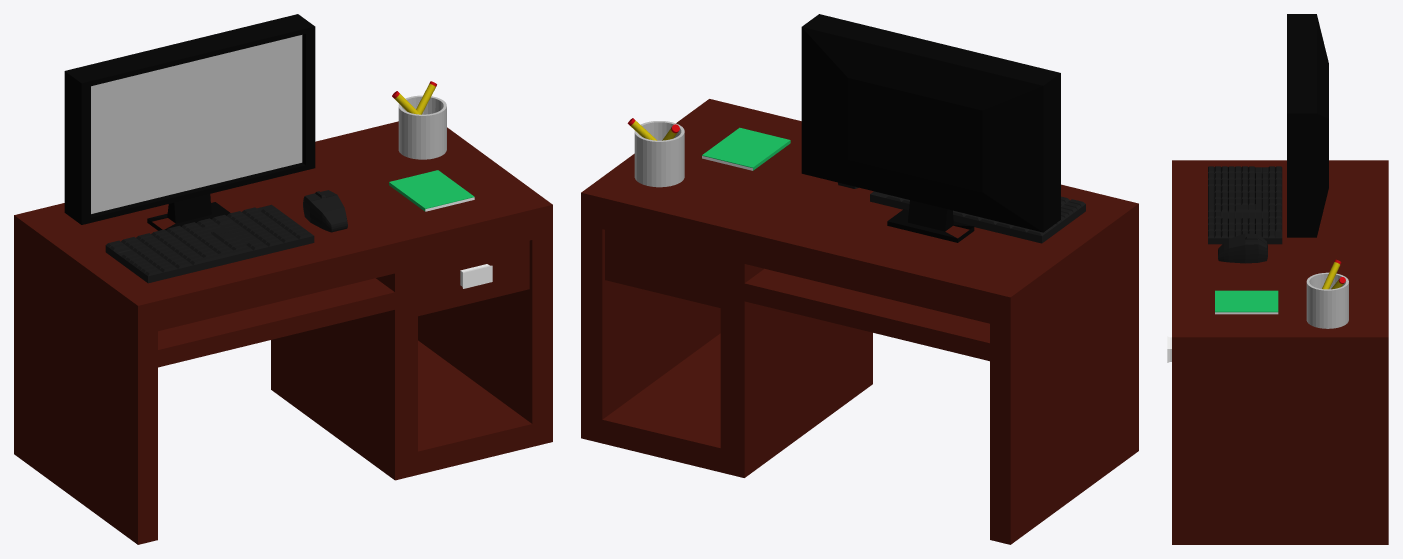
Rendered from computer_desk.obj.
3 renders of one model, left to right at view 1: azimuth 30°, elevation 25°; view 2: azimuth 150°, elevation 25°; view 3: azimuth 270°, elevation 25°, orthographic. The views are drawn at different scales.
Parts seen in each view (by area): view 1: Cube_Cube.001, Cube.003_Cube.004, Cube.002_Cube.009, Cube.001_Cube.002, Cylinder, Cube.005_Cube, Cube.006_Cube.008; view 2: Cube_Cube.001, Cube.003_Cube.004, Cube.001_Cube.002, Cylinder, Cube.002_Cube.009, Cube.005_Cube; view 3: Cube_Cube.001, Cube.003_Cube.004, Cube.002_Cube.009, Cylinder, Cube.005_Cube, Cube.006_Cube.008.
Boxes of the visible parts, left/top/right/bottom form: Cube_Cube.001: left=14, top=121, right=552, bottom=544; Cube.003_Cube.004: left=64, top=14, right=315, bottom=230; Cube.002_Cube.009: left=105, top=204, right=314, bottom=283; Cube.001_Cube.002: left=418, top=240, right=529, bottom=316; Cylinder: left=398, top=95, right=446, bottom=159; Cube.005_Cube: left=389, top=170, right=474, bottom=211; Cube.006_Cube.008: left=303, top=190, right=347, bottom=232; Cube_Cube.001: left=581, top=99, right=1138, bottom=544; Cube.003_Cube.004: left=801, top=14, right=1060, bottom=242; Cube.001_Cube.002: left=605, top=230, right=720, bottom=307; Cylinder: left=634, top=121, right=684, bottom=187; Cube.002_Cube.009: left=870, top=191, right=1085, bottom=243; Cube.005_Cube: left=702, top=127, right=790, bottom=170; Cube_Cube.001: left=1172, top=160, right=1388, bottom=544; Cube.003_Cube.004: left=1287, top=14, right=1328, bottom=237; Cube.002_Cube.009: left=1208, top=166, right=1282, bottom=244; Cylinder: left=1306, top=272, right=1348, bottom=328; Cube.005_Cube: left=1215, top=290, right=1278, bottom=314; Cube.006_Cube.008: left=1218, top=233, right=1267, bottom=263.
Bounding box in the file's own units: 26.51 × 25.09 × 14.01.
